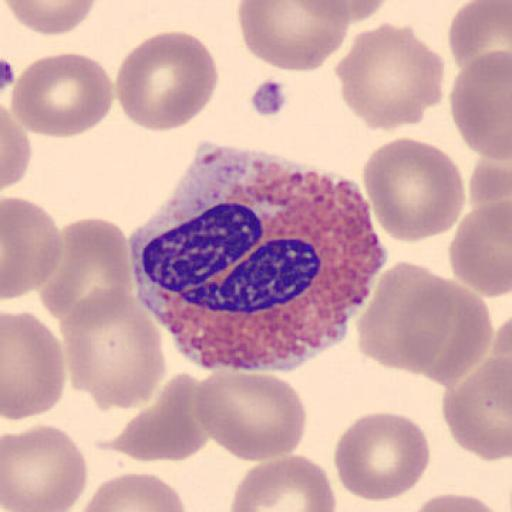RBC: (368, 264, 495, 388), (59, 285, 167, 413), (333, 21, 446, 133), (360, 135, 466, 244), (356, 260, 454, 374), (400, 273, 494, 389), (194, 367, 308, 462), (116, 30, 220, 134), (39, 216, 135, 323), (9, 51, 116, 141), (332, 410, 432, 504), (109, 371, 210, 463), (236, 0, 351, 73), (2, 423, 90, 512), (442, 357, 512, 462), (1, 310, 67, 421), (449, 48, 512, 162), (228, 453, 338, 512), (2, 195, 63, 301), (448, 198, 512, 298), (448, 0, 512, 76), (76, 469, 189, 512), (4, 0, 100, 37), (249, 0, 391, 25), (467, 155, 511, 233), (1, 105, 33, 193), (404, 491, 505, 512), (312, 0, 392, 23)
WBC: (135, 146, 387, 372)
